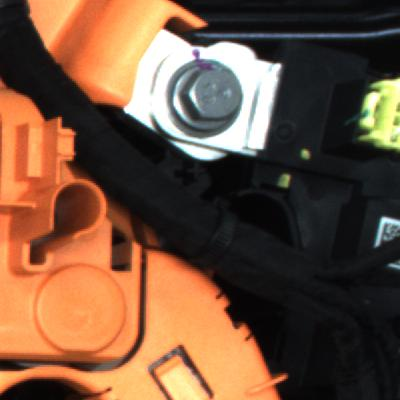nut_b: (172, 53, 250, 146)
